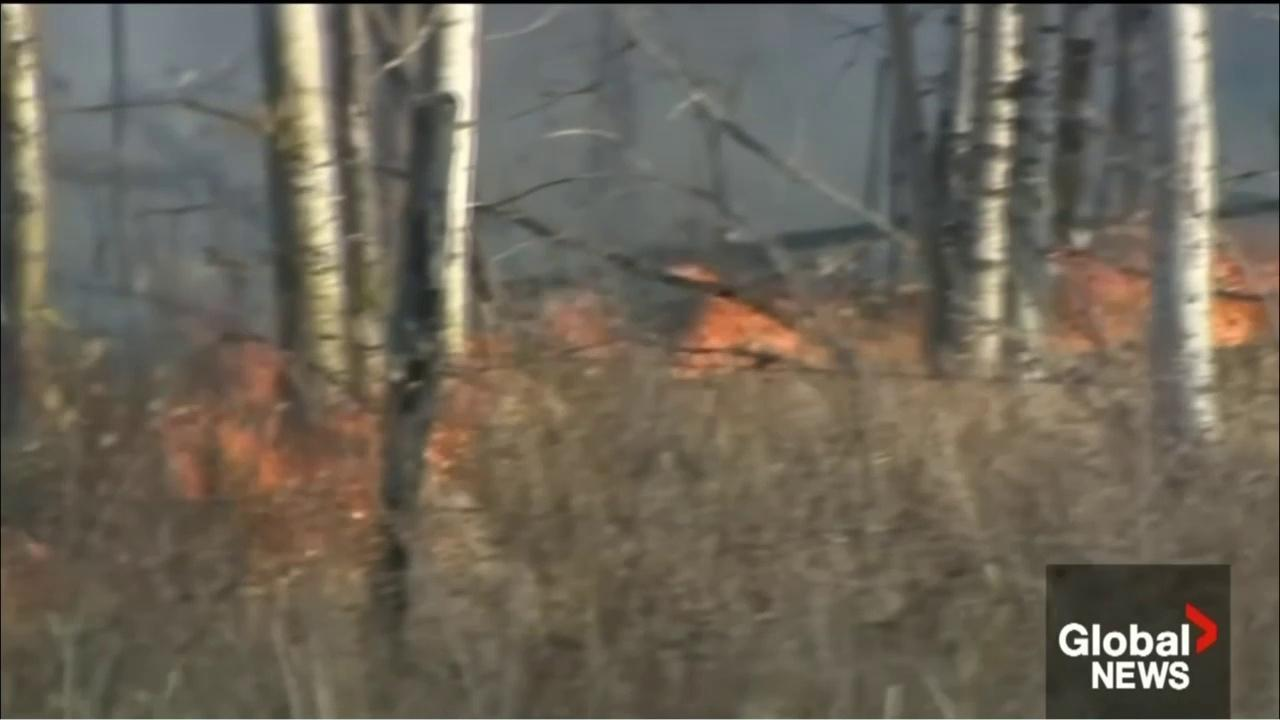fire: (152, 323, 383, 565), (668, 291, 940, 382), (423, 321, 518, 489), (1035, 240, 1157, 358), (1204, 242, 1279, 352), (547, 277, 625, 368), (662, 263, 719, 285)
smoke: (32, 4, 1280, 411)
